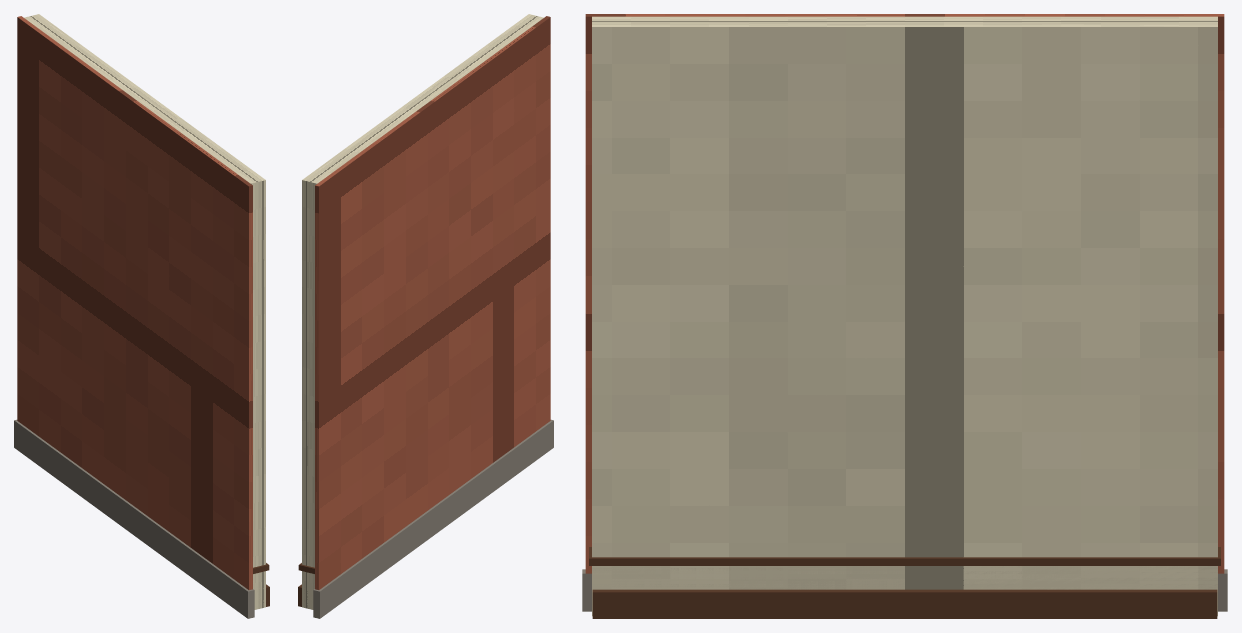
File: left.glb
The picture shows the model from 3 angles, left to right: view 1: azimuth 30°, elevation 25°; view 2: azimuth 150°, elevation 25°; view 3: azimuth 270°, elevation 25°; orthographic projection. The views are drawn at different scales.
Parts seen in each view (by area): view 1: Box3, Box1, Box4; view 2: Box3, Box1, Box4; view 3: Box1, Box2, Box3, Box5, Box6.
Boxes of the visible parts, left/top/right/bottom form: Box3: left=17, top=16, right=252, bottom=589; Box1: left=24, top=14, right=265, bottom=609; Box4: left=14, top=419, right=254, bottom=618; Box3: left=315, top=16, right=550, bottom=589; Box1: left=302, top=14, right=543, bottom=609; Box4: left=313, top=419, right=553, bottom=618; Box1: left=592, top=16, right=1217, bottom=616; Box2: left=592, top=589, right=1217, bottom=618; Box3: left=585, top=14, right=1224, bottom=573; Box5: left=592, top=566, right=1217, bottom=614; Box6: left=589, top=547, right=1220, bottom=565.
Bounding box in the file's own units: 0.25 × 4.04 × 3.97.
Materials: 4 (2 with a texture image).
